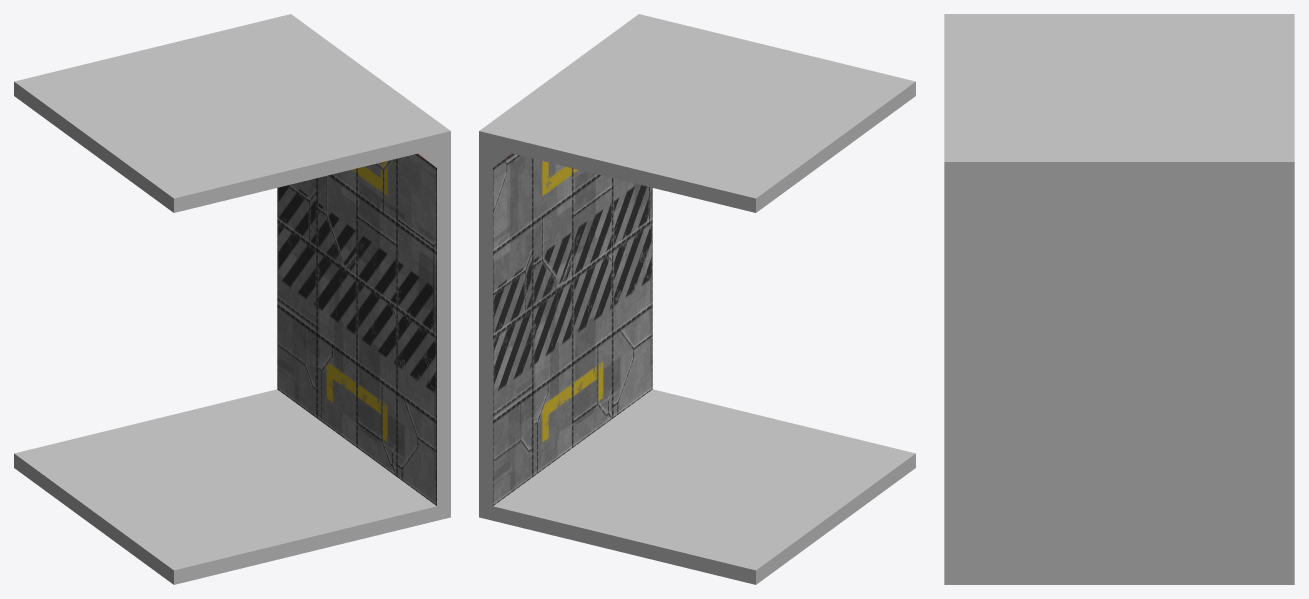
The picture shows the model from 3 angles, left to right: view 1: azimuth 30°, elevation 25°; view 2: azimuth 150°, elevation 25°; view 3: azimuth 270°, elevation 25°; orthographic projection. The views are drawn at different scales.
Visible parts, largest first — view 1: Body.003; view 2: Body.003; view 3: Body.003.
Part boxes in pixels (x1,y1,x2,y2): Body.003: [14, 14, 450, 584]; Body.003: [479, 14, 915, 584]; Body.003: [944, 14, 1294, 584].
Bounding box in the file's own units: 1.5 × 2 × 1.5.
3 materials, 2 textured.
